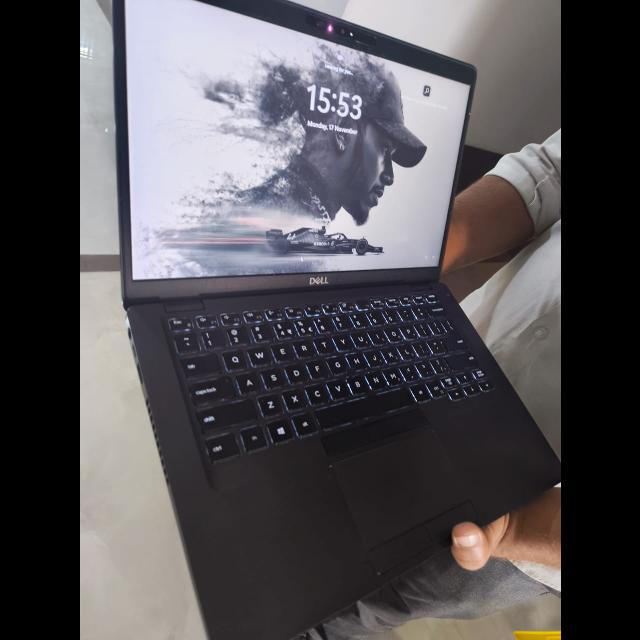laptop: (101, 16, 532, 614)
